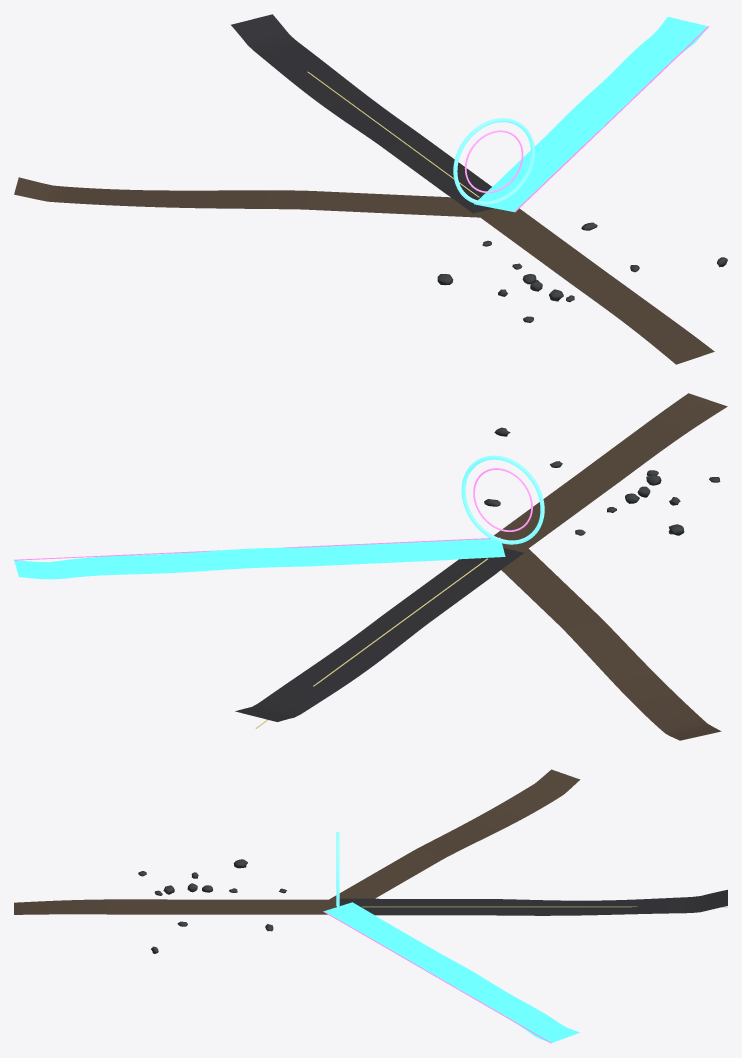
File: crossroads_scenery.glb
The picture shows the model from 3 angles, top to bottom: view 1: azimuth 30°, elevation 25°; view 2: azimuth 150°, elevation 25°; view 3: azimuth 270°, elevation 25°; orthographic projection. The views are drawn at different scales.
Parts seen in each view (by area): view 1: road.002, road.003, road.001, road, Torus, rock; view 2: road.002, road.003, road.001, road, Torus, rock, Cube; view 3: road.002, road.003, road.001, road, rock, Cube.001.
Boxes of the visible parts, bbox=[...] form: road.002: bbox=[231, 14, 494, 213]; road.003: bbox=[474, 17, 707, 211]; road.001: bbox=[14, 177, 493, 217]; road: bbox=[475, 208, 714, 364]; Torus: bbox=[453, 118, 534, 205]; rock: bbox=[437, 222, 727, 322]; road.002: bbox=[235, 548, 523, 721]; road.003: bbox=[14, 539, 505, 579]; road.001: bbox=[501, 543, 721, 740]; road: bbox=[494, 393, 727, 551]; Torus: bbox=[461, 455, 544, 544]; rock: bbox=[484, 427, 720, 535]; Cube: bbox=[14, 537, 500, 560]; road.002: bbox=[339, 889, 727, 915]; road.003: bbox=[324, 902, 579, 1042]; road.001: bbox=[324, 769, 580, 906]; road: bbox=[14, 899, 336, 914]; rock: bbox=[138, 859, 286, 953]; Cube.001: bbox=[362, 906, 727, 907].
Bounding box in the file's own units: 108 × 14.33 × 119.
